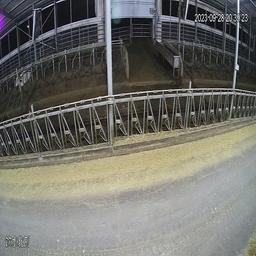cow: (14, 65, 33, 93)
